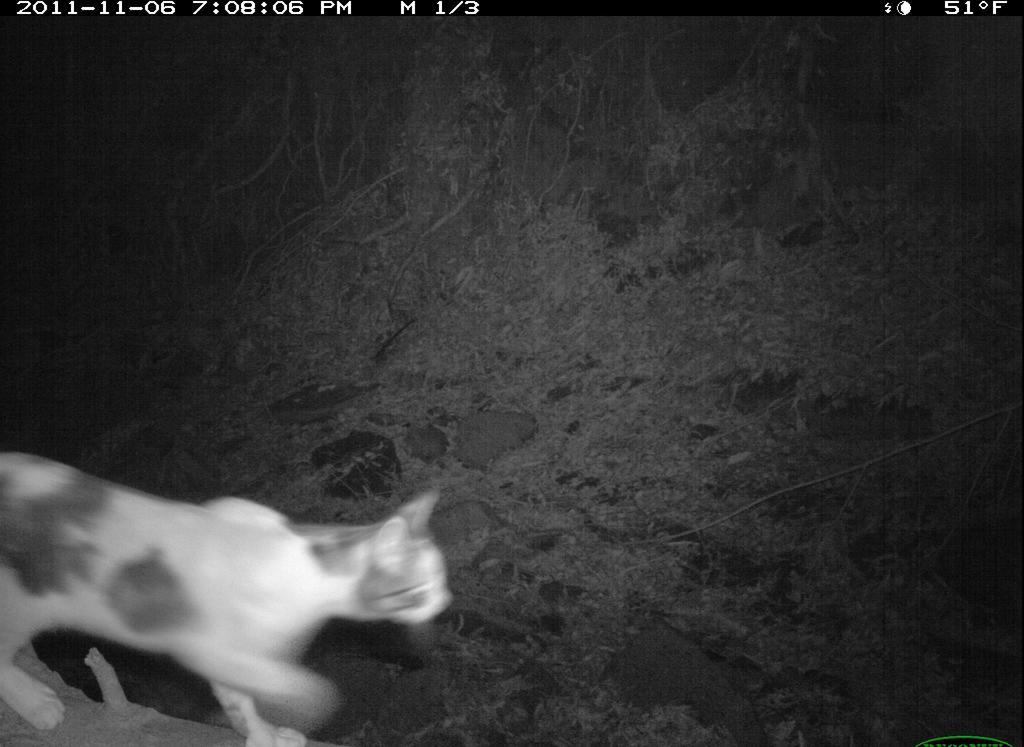cat: (2, 447, 456, 747)
